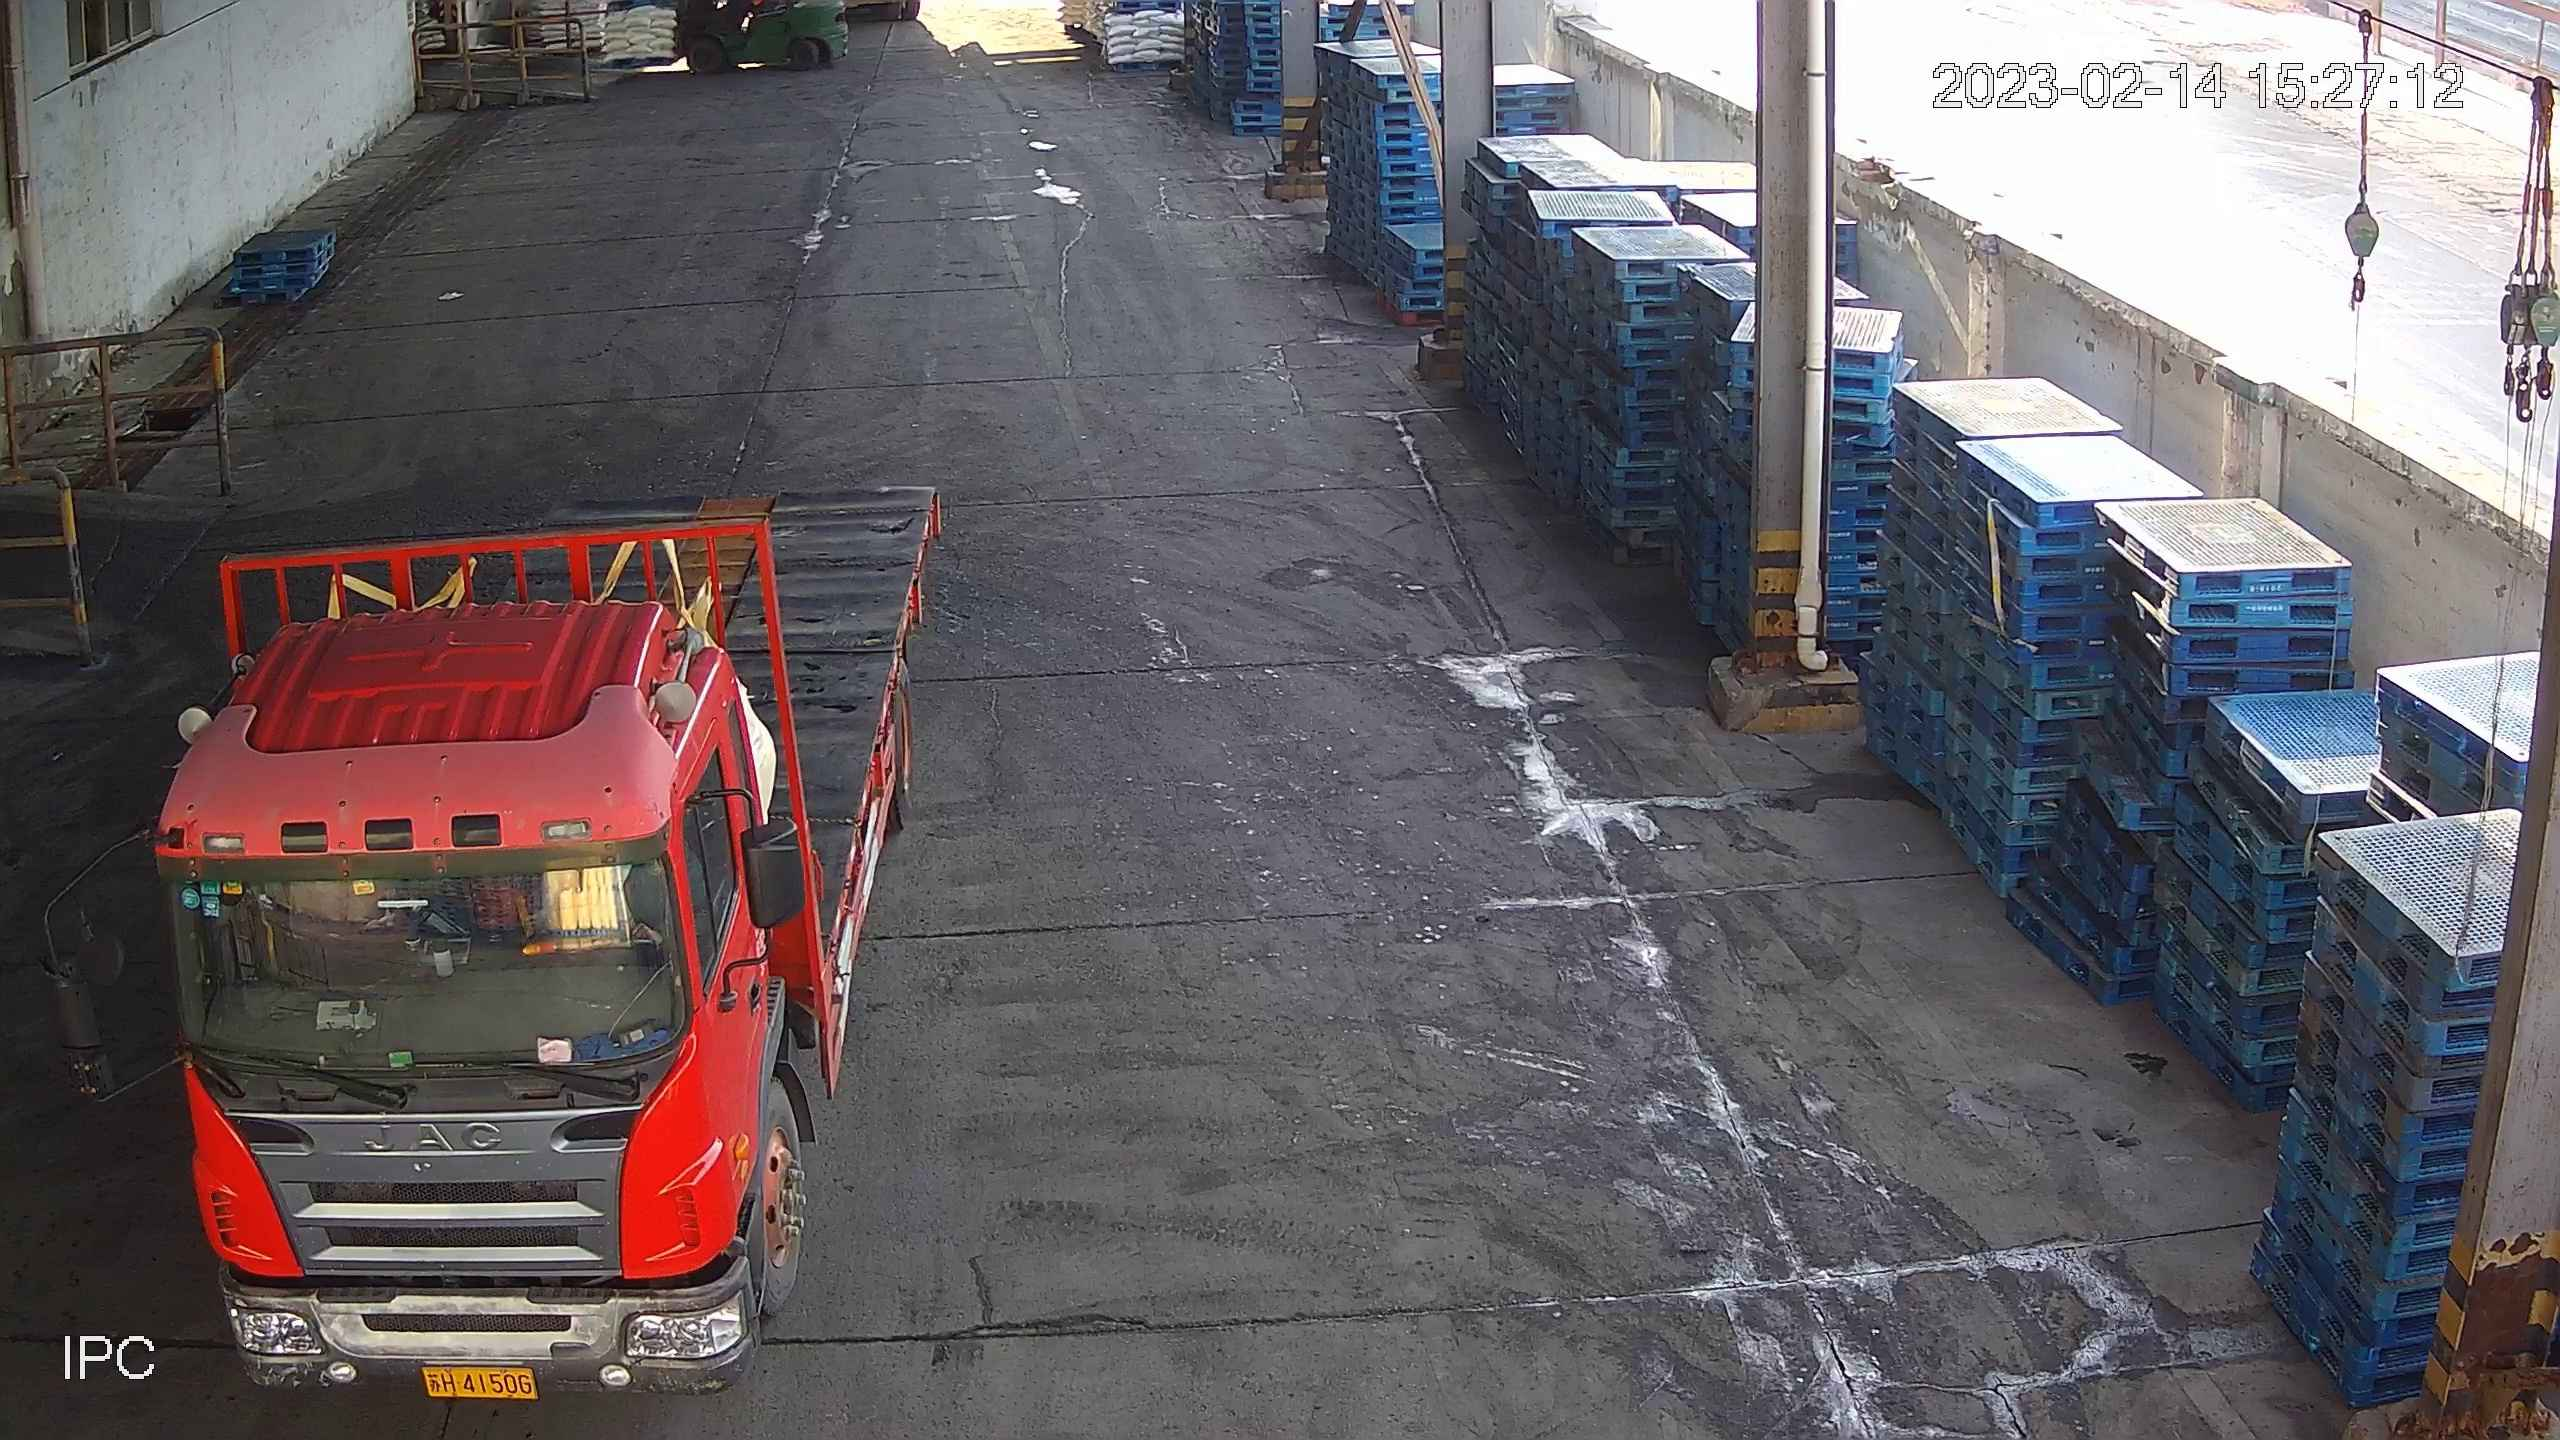truck: (47, 482, 937, 1417)
